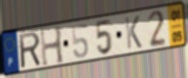2: (147, 9, 168, 50)
5: (93, 17, 115, 56), (71, 22, 90, 60)
H: (38, 24, 66, 68)
K: (124, 14, 143, 51)
R: (17, 30, 43, 70)
